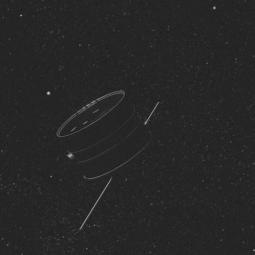double_start: (54, 76, 158, 194)
